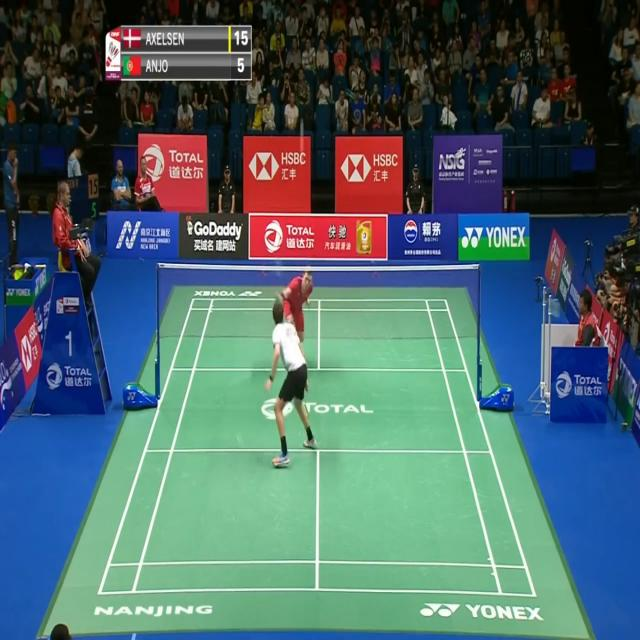Player1: (268, 300, 316, 468)
Player2: (284, 258, 314, 350)
